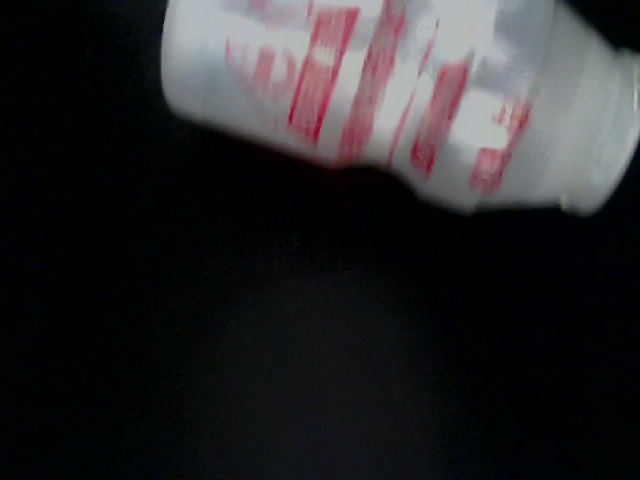CYLJ: (307, 428, 599, 480)
